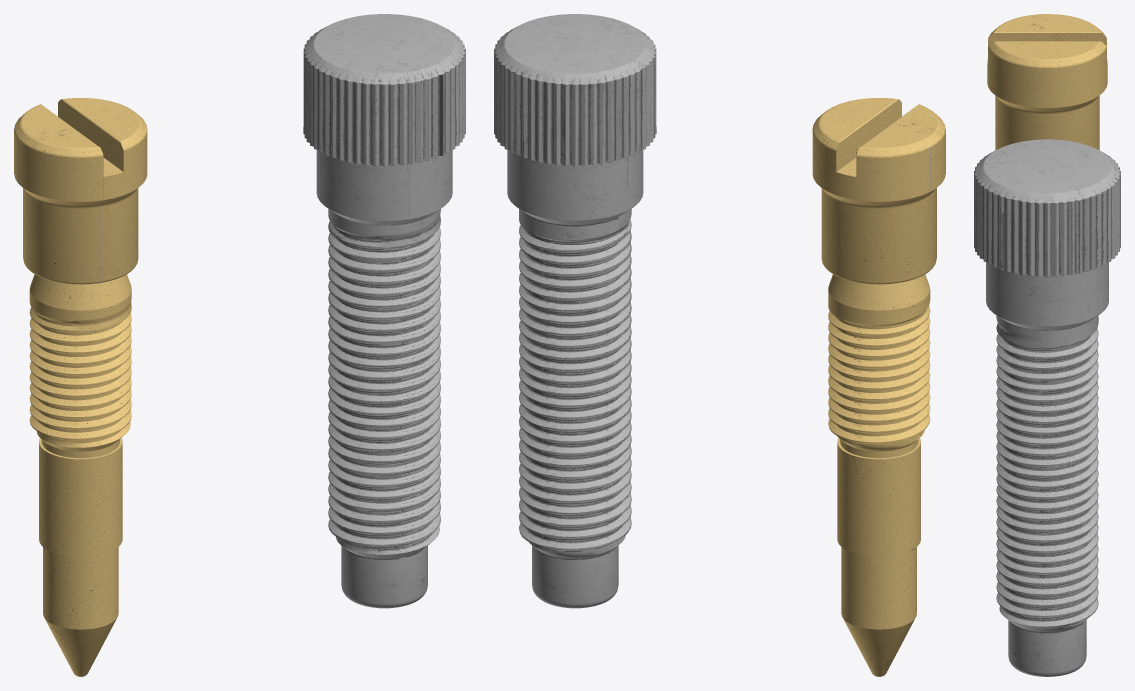
The model's file is airIdleSpeedScrew.glb.
The picture shows the model from 3 angles, left to right: view 1: azimuth 30°, elevation 25°; view 2: azimuth 150°, elevation 25°; view 3: azimuth 270°, elevation 25°; orthographic projection. The views are drawn at different scales.
Parts seen in each view (by area): view 1: airIdleSpeedScrew; view 2: airIdleSpeedScrew; view 3: airIdleSpeedScrew.
Part boxes in pixels (left/top/right/bottom): airIdleSpeedScrew: left=14, top=14, right=465, bottom=676; airIdleSpeedScrew: left=494, top=14, right=945, bottom=676; airIdleSpeedScrew: left=974, top=14, right=1120, bottom=676.
Bounding box in the file's own units: 1.59 × 1.96 × 0.5183.
1 material, 1 textured.
